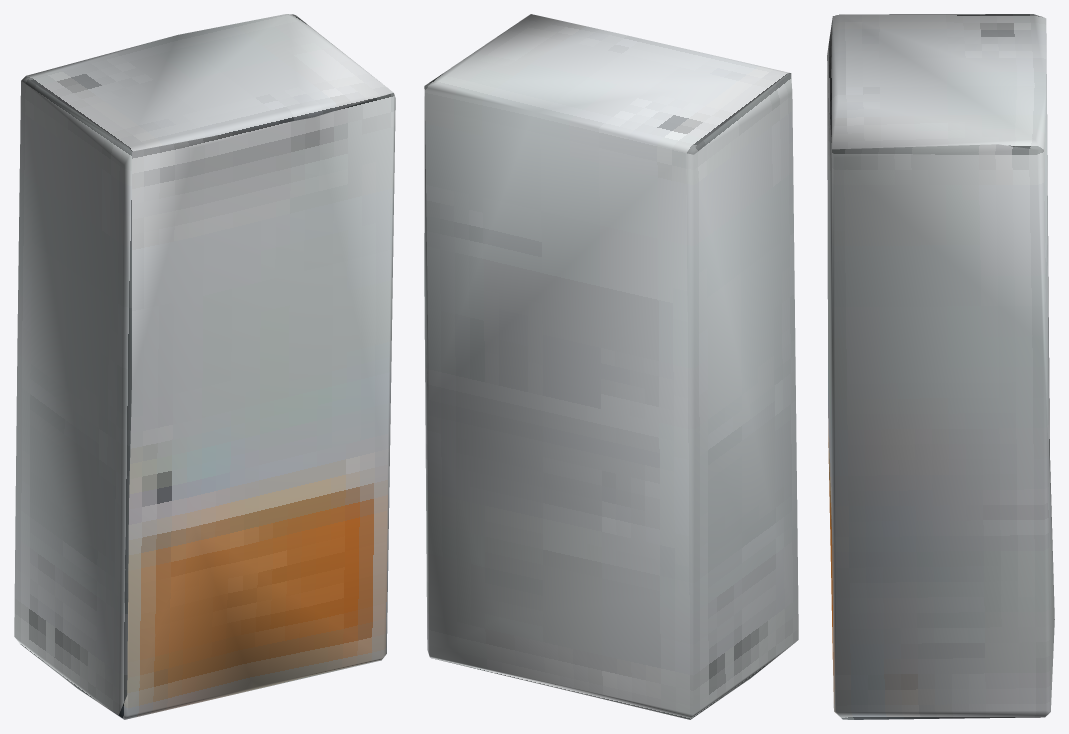
Rendered from Perricone_MD_Chia_Serum-low.glb.
3 views of the same model, side by side, from view 1: azimuth 30°, elevation 25°; view 2: azimuth 150°, elevation 25°; view 3: azimuth 270°, elevation 25° (orthographic).
Parts seen in each view (by area): view 1: Perricone_MD_Chia_Serum; view 2: Perricone_MD_Chia_Serum; view 3: Perricone_MD_Chia_Serum.
Boxes of the visible parts, x1,y1,x2,y2 form: Perricone_MD_Chia_Serum: (14,14,395,719); Perricone_MD_Chia_Serum: (424,14,798,719); Perricone_MD_Chia_Serum: (827,14,1054,719).
Bounding box in the file's own units: 0.0598 × 0.1195 × 0.0424.
Materials: 1 (1 with a texture image).
